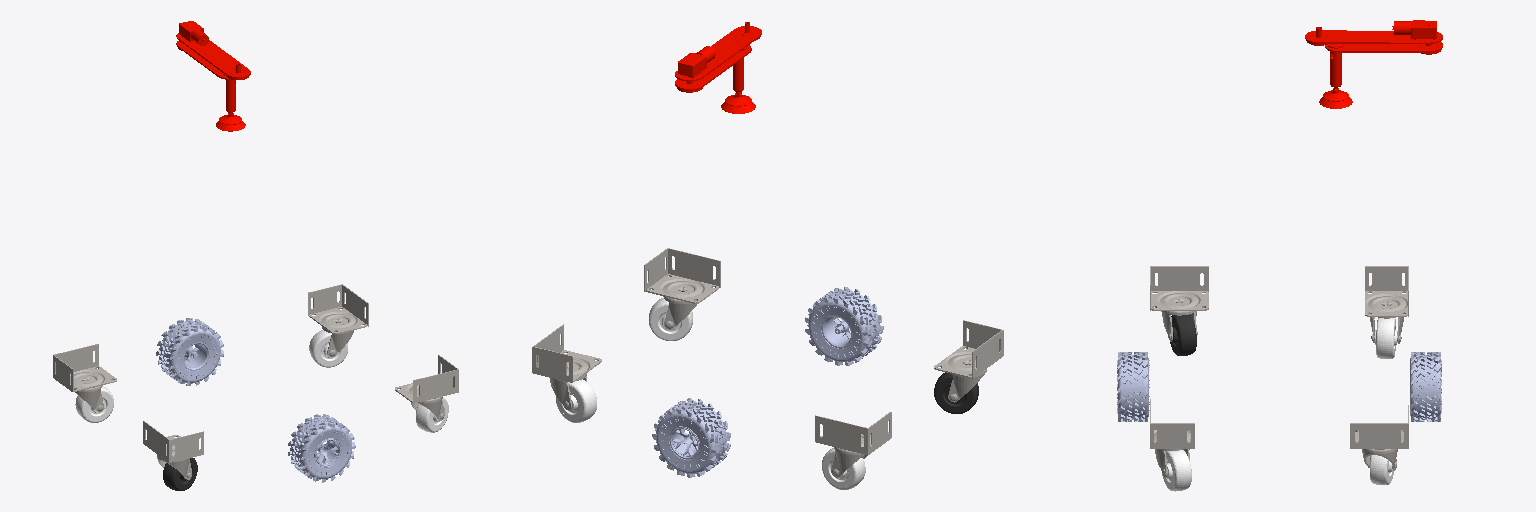
The robot description file, URDF, robot "Assem1":
<?xml version="1.0" encoding="utf-8"?>
<!-- This URDF was automatically created by SolidWorks to URDF Exporter! Originally created by Stephen Brawner (brawner@gmail.com) 
     Commit Version: 1.6.0-4-g7f85cfe  Build Version: 1.6.7995.38578
     For more information, please see http://wiki.ros.org/sw_urdf_exporter -->
<robot
  name="Assem1">
  <link
    name="base_link">
    <inertial>
      <origin
        xyz="-0.00155506458890642 -0.0167350728595071 0.196068139571374"
        rpy="0 0 0" />
      <mass
        value="36.7025357857225" />
      <inertia
        ixx="1.19283308759496"
        ixy="-3.51896300637401E-06"
        ixz="1.99354682337673E-07"
        iyy="1.33312260434488"
        iyz="0.00419911892440131"
        izz="1.35147505804967" />
    </inertial>
    <visual>
      <origin
        xyz="0 0 0"
        rpy="0 0 0" />
      <geometry>
        <mesh
          filename="package://assem1_test/meshes/base_link.STL" />
      </geometry>
      <material
        name="">
        <color
          rgba="0.776470588235294 0.756862745098039 0.737254901960784 1" />
      </material>
    </visual>
    <collision>
      <origin
        xyz="0 0 0"
        rpy="0 0 0" />
      <geometry>
        <mesh
          filename="package://assem1_test/meshes/base_link.STL" />
      </geometry>
    </collision>
  </link>
  <link
    name="Left_wheel">
    <inertial>
      <origin
        xyz="-3.06256353610479E-09 -1.20896110900048E-08 0.00479339715197669"
        rpy="0 0 0" />
      <mass
        value="0.0922917375027572" />
      <inertia
        ixx="0.000141545400704209"
        ixy="-2.06461032840064E-11"
        ixz="-1.02248643807838E-11"
        iyy="0.000141544096645698"
        iyz="-2.6977277401381E-11"
        izz="0.0002252540982412" />
    </inertial>
    <visual>
      <origin
        xyz="0 0 0"
        rpy="0 0 0" />
      <geometry>
        <mesh
          filename="package://assem1_test/meshes/Left_wheel.STL" />
      </geometry>
      <material
        name="">
        <color
          rgba="0.792156862745098 0.819607843137255 0.933333333333333 1" />
      </material>
    </visual>
    <collision>
      <origin
        xyz="0 0 0"
        rpy="0 0 0" />
      <geometry>
        <mesh
          filename="package://assem1_test/meshes/Left_wheel.STL" />
      </geometry>
    </collision>
  </link>
  <joint
    name="leftwheel"
    type="continuous">
    <origin
      xyz="0 0.25498 -0.188"
      rpy="-1.5708 0 0" />
    <parent
      link="base_link" />
    <child
      link="Left_wheel" />
    <axis
      xyz="0 0 1" />
  </joint>
  <link
    name="Right_wheel">
    <inertial>
      <origin
        xyz="3.06143022044125E-09 -1.20857057694934E-08 -0.00479339714908333"
        rpy="0 0 0" />
      <mass
        value="0.0922917374397851" />
      <inertia
        ixx="0.000141545400710461"
        ixy="2.06410667434802E-11"
        ixz="-1.02121235750665E-11"
        iyy="0.000141544096649246"
        iyz="2.69726379704069E-11"
        izz="0.000225254098228782" />
    </inertial>
    <visual>
      <origin
        xyz="0 0 0"
        rpy="0 0 0" />
      <geometry>
        <mesh
          filename="package://assem1_test/meshes/Right_wheel.STL" />
      </geometry>
      <material
        name="">
        <color
          rgba="0.792156862745098 0.819607843137255 0.933333333333333 1" />
      </material>
    </visual>
    <collision>
      <origin
        xyz="0 0 0"
        rpy="0 0 0" />
      <geometry>
        <mesh
          filename="package://assem1_test/meshes/Right_wheel.STL" />
      </geometry>
    </collision>
  </link>
  <joint
    name="rightwreel"
    type="continuous">
    <origin
      xyz="0 -0.25502 -0.188"
      rpy="-1.5708 0 0" />
    <parent
      link="base_link" />
    <child
      link="Right_wheel" />
    <axis
      xyz="0 0 -1" />
  </joint>
  <link
    name="Caster_1">
    <inertial>
      <origin
        xyz="-0.035275891589382 0.00580828165625702 -0.00311975409525078"
        rpy="0 0 0" />
      <mass
        value="0.585808382602343" />
      <inertia
        ixx="0.000551623388855379"
        ixy="1.88511707291591E-05"
        ixz="-5.60975500731634E-05"
        iyy="0.000382179453675265"
        iyz="-3.78791423823395E-05"
        izz="0.00068252815443526" />
    </inertial>
    <visual>
      <origin
        xyz="0 0 0"
        rpy="0 0 0" />
      <geometry>
        <mesh
          filename="package://assem1_test/meshes/Caster_1.STL" />
      </geometry>
      <material
        name="">
        <color
          rgba="0.776470588235294 0.756862745098039 0.737254901960784 1" />
      </material>
    </visual>
    <collision>
      <origin
        xyz="0 0 0"
        rpy="0 0 0" />
      <geometry>
        <mesh
          filename="package://assem1_test/meshes/Caster_1.STL" />
      </geometry>
    </collision>
  </link>
  <joint
    name="caster1"
    type="continuous">
    <origin
      xyz="0.29031 0.17759 -0.15623"
      rpy="0 0 0" />
    <parent
      link="base_link" />
    <child
      link="Caster_1" />
    <axis
      xyz="0 0 -1" />
  </joint>
  <link
    name="Empty_Link">
    <inertial>
      <origin
        xyz="-2.3489592937409E-08 -4.51467752071721E-11 -9.72476782434839E-08"
        rpy="0 0 0" />
      <mass
        value="1.06721078657091" />
      <inertia
        ixx="0.000476140505873741"
        ixy="6.20443463971414E-19"
        ixz="6.48044087020466E-05"
        iyy="0.000460480636810305"
        iyz="2.50836569154054E-18"
        izz="0.000728657297177633" />
    </inertial>
    <visual>
      <origin
        xyz="0 0 0"
        rpy="0 0 0" />
      <geometry>
        <mesh
          filename="package://assem1_test/meshes/Empty_Link.STL" />
      </geometry>
      <material
        name="">
        <color
          rgba="1 1 1 1" />
      </material>
    </visual>
    <collision>
      <origin
        xyz="0 0 0"
        rpy="0 0 0" />
      <geometry>
        <mesh
          filename="package://assem1_test/meshes/Empty_Link.STL" />
      </geometry>
    </collision>
  </link>
  <joint
    name="weelcaster1"
    type="continuous">
    <origin
      xyz="-0.01926 0.0047517 -0.055512"
      rpy="-1.5708 0 0" />
    <parent
      link="Caster_1" />
    <child
      link="Empty_Link" />
    <axis
      xyz="0.23502 0 0.97199" />
  </joint>
  <link
    name="Caster_2">
    <inertial>
      <origin
        xyz="-0.00319501952400647 0.00490162667456961 -0.0030358083689912"
        rpy="0 0 0" />
      <mass
        value="0.568674136706872" />
      <inertia
        ixx="0.000422933243894265"
        ixy="-3.18669815606215E-05"
        ixz="5.59173802613492E-05"
        iyy="0.000509353159552698"
        iyz="-4.28638185435833E-05"
        izz="0.000681363739268127" />
    </inertial>
    <visual>
      <origin
        xyz="0 0 0"
        rpy="0 0 0" />
      <geometry>
        <mesh
          filename="package://assem1_test/meshes/Caster_2.STL" />
      </geometry>
      <material
        name="">
        <color
          rgba="0.776470588235294 0.756862745098039 0.737254901960784 1" />
      </material>
    </visual>
    <collision>
      <origin
        xyz="0 0 0"
        rpy="0 0 0" />
      <geometry>
        <mesh
          filename="package://assem1_test/meshes/Caster_2.STL" />
      </geometry>
    </collision>
  </link>
  <joint
    name="caster2"
    type="continuous">
    <origin
      xyz="-0.27761 0.19029 -0.15623"
      rpy="0 0 0" />
    <parent
      link="base_link" />
    <child
      link="Caster_2" />
    <axis
      xyz="0 0 -1" />
  </joint>
  <link
    name="Empty_Link2">
    <inertial>
      <origin
        xyz="6.6066980775048E-09 -6.24954532568722E-11 9.97406108815824E-08"
        rpy="0 0 0" />
      <mass
        value="1.06721078657091" />
      <inertia
        ixx="0.000461722824688413"
        ixy="1.6641436865393E-19"
        ixz="1.8735935138088E-05"
        iyy="0.000460480636810305"
        iyz="2.93795194145687E-18"
        izz="0.00074307497836296" />
    </inertial>
    <visual>
      <origin
        xyz="0 0 0"
        rpy="0 0 0" />
      <geometry>
        <mesh
          filename="package://assem1_test/meshes/Empty_Link2.STL" />
      </geometry>
      <material
        name="">
        <color
          rgba="1 1 1 1" />
      </material>
    </visual>
    <collision>
      <origin
        xyz="0 0 0"
        rpy="0 0 0" />
      <geometry>
        <mesh
          filename="package://assem1_test/meshes/Empty_Link2.STL" />
      </geometry>
    </collision>
  </link>
  <joint
    name="casterwheel2"
    type="continuous">
    <origin
      xyz="0.019788 -0.001407 -0.055512"
      rpy="-1.5708 0 0" />
    <parent
      link="Caster_2" />
    <child
      link="Empty_Link2" />
    <axis
      xyz="-0.066155 0 -0.99781" />
  </joint>
  <link
    name="Caster_3">
    <inertial>
      <origin
        xyz="-0.00343457279816928 -0.00425088510972743 -0.00303479975691134"
        rpy="0 0 0" />
      <mass
        value="0.568664498255161" />
      <inertia
        ixx="0.000549067886838521"
        ixy="4.18316193484824E-05"
        ixz="5.58015039159187E-05"
        iyy="0.000383064954110297"
        iyz="4.57861181051339E-05"
        izz="0.000681332583879271" />
    </inertial>
    <visual>
      <origin
        xyz="0 0 0"
        rpy="0 0 0" />
      <geometry>
        <mesh
          filename="package://assem1_test/meshes/Caster_3.STL" />
      </geometry>
      <material
        name="">
        <color
          rgba="0.776470588235294 0.756862745098039 0.737254901960784 1" />
      </material>
    </visual>
    <collision>
      <origin
        xyz="0 0 0"
        rpy="0 0 0" />
      <geometry>
        <mesh
          filename="package://assem1_test/meshes/Caster_3.STL" />
      </geometry>
    </collision>
  </link>
  <joint
    name="caster3"
    type="continuous">
    <origin
      xyz="-0.29031 -0.17764 -0.15623"
      rpy="0 0 0" />
    <parent
      link="base_link" />
    <child
      link="Caster_3" />
    <axis
      xyz="0 0 -1" />
  </joint>
  <link
    name="Empty_Link3">
    <inertial>
      <origin
        xyz="-3.06898400026512E-08 1.00507380196291E-11 9.51734757115297E-08"
        rpy="0 0 0" />
      <mass
        value="1.0672107865709" />
      <inertia
        ixx="0.000487196059114887"
        ixy="-9.72601687017595E-19"
        ixz="-8.28800275114445E-05"
        iyy="0.000460480636810305"
        iyz="2.99577040698735E-18"
        izz="0.000717601743936485" />
    </inertial>
    <visual>
      <origin
        xyz="0 0 0"
        rpy="0 0 0" />
      <geometry>
        <mesh
          filename="package://assem1_test/meshes/Empty_Link3.STL" />
      </geometry>
      <material
        name="">
        <color
          rgba="0.250980392156863 0.250980392156863 0.250980392156863 1" />
      </material>
    </visual>
    <collision>
      <origin
        xyz="0 0 0"
        rpy="0 0 0" />
      <geometry>
        <mesh
          filename="package://assem1_test/meshes/Empty_Link3.STL" />
      </geometry>
    </collision>
  </link>
  <joint
    name="casterwheel3"
    type="continuous">
    <origin
      xyz="0.01891 0.0059957 -0.055512"
      rpy="-1.5708 0 0" />
    <parent
      link="Caster_3" />
    <child
      link="Empty_Link3" />
    <axis
      xyz="0.30679 0 -0.95178" />
  </joint>
  <link
    name="Caster_4">
    <inertial>
      <origin
        xyz="-0.0120122727642447 -0.0524769152873983 -0.0119838106843425"
        rpy="0 0 0" />
      <mass
        value="0.568664179194258" />
      <inertia
        ixx="0.000416216576417651"
        ixy="2.7891138356659E-05"
        ixz="-1.29396663120577E-05"
        iyy="0.000681332605352682"
        iyz="-4.76612202956274E-05"
        izz="0.000515916252248981" />
    </inertial>
    <visual>
      <origin
        xyz="0 0 0"
        rpy="0 0 0" />
      <geometry>
        <mesh
          filename="package://assem1_test/meshes/Caster_4.STL" />
      </geometry>
      <material
        name="">
        <color
          rgba="0.776470588235294 0.756862745098039 0.737254901960784 1" />
      </material>
    </visual>
    <collision>
      <origin
        xyz="0 0 0"
        rpy="0 0 0" />
      <geometry>
        <mesh
          filename="package://assem1_test/meshes/Caster_4.STL" />
      </geometry>
    </collision>
  </link>
  <joint
    name="caster4"
    type="continuous">
    <origin
      xyz="0.29588 -0.18261 -0.21174"
      rpy="-1.5708 0 0" />
    <parent
      link="base_link" />
    <child
      link="Caster_4" />
    <axis
      xyz="0 1 0" />
  </joint>
  <link
    name="Empty_Link4">
    <inertial>
      <origin
        xyz="-3.81156268769445E-08 -1.1498906271612E-09 9.2705818466321E-08"
        rpy="0 0 0" />
      <mass
        value="1.06721078657091" />
      <inertia
        ixx="0.000504549784122729"
        ixy="-1.42465177926377E-18"
        ixz="-0.000102792723883003"
        iyy="0.000460480636810305"
        iyz="3.18438960836454E-18"
        izz="0.000700248018928644" />
    </inertial>
    <visual>
      <origin
        xyz="0 0 0"
        rpy="0 0 0" />
      <geometry>
        <mesh
          filename="package://assem1_test/meshes/Empty_Link4.STL" />
      </geometry>
      <material
        name="">
        <color
          rgba="1 1 1 1" />
      </material>
    </visual>
    <collision>
      <origin
        xyz="0 0 0"
        rpy="0 0 0" />
      <geometry>
        <mesh
          filename="package://assem1_test/meshes/Empty_Link4.STL" />
      </geometry>
    </collision>
  </link>
  <joint
    name="casterwheel44"
    type="continuous">
    <origin
      xyz="0 0 0"
      rpy="0 0 0" />
    <parent
      link="Caster_4" />
    <child
      link="Empty_Link4" />
    <axis
      xyz="0.39403 0 -0.9191" />
  </joint>
  <link
    name="Armlink1">
    <inertial>
      <origin
        xyz="0.0003200901517868 0.10625947606417 0.00859769829677659"
        rpy="0 0 0" />
      <mass
        value="0.332522666985014" />
      <inertia
        ixx="0.00125293093936372"
        ixy="-4.70356148528572E-06"
        ixz="3.39571390138256E-10"
        iyy="6.28321938668438E-05"
        iyz="7.22390011604219E-08"
        izz="0.00131069685758587" />
    </inertial>
    <visual>
      <origin
        xyz="0 0 0"
        rpy="0 0 0" />
      <geometry>
        <mesh
          filename="package://assem1_test/meshes/Armlink1.STL" />
      </geometry>
      <material
        name="">
        <color
          rgba="0.988235294117647 0.0823529411764706 0 1" />
      </material>
    </visual>
    <collision>
      <origin
        xyz="0 0 0"
        rpy="0 0 0" />
      <geometry>
        <mesh
          filename="package://assem1_test/meshes/Armlink1.STL" />
      </geometry>
    </collision>
  </link>
  <joint
    name="armlinl1"
    type="revolute">
    <origin
      xyz="0 0.069976 0.4897"
      rpy="0 0 0" />
    <parent
      link="base_link" />
    <child
      link="Armlink1" />
    <axis
      xyz="0 0 1" />
    <limit lower="-3.14" upper="3.14" effort="10" velocity="1.0" />
  </joint>
  <link
    name="armlink2">
    <inertial>
      <origin
        xyz="-0.000378523464681146 -0.0941307105712545 -0.00947503989193477"
        rpy="0 0 0" />
      <mass
        value="0.300704203880306" />
      <inertia
        ixx="0.000749795032834774"
        ixy="-2.68858863020437E-06"
        ixz="3.21601810886238E-08"
        iyy="7.27567345311832E-05"
        iyz="-4.00235469561631E-08"
        izz="0.000789914137832894" />
    </inertial>
    <visual>
      <origin
        xyz="0 0 0"
        rpy="0 0 0" />
      <geometry>
        <mesh
          filename="package://assem1_test/meshes/armlink2.STL" />
      </geometry>
      <material
        name="">
        <color
          rgba="0.988235294117647 0.0823529411764706 0 1" />
      </material>
    </visual>
    <collision>
      <origin
        xyz="0 0 0"
        rpy="0 0 0" />
      <geometry>
        <mesh
          filename="package://assem1_test/meshes/armlink2.STL" />
      </geometry>
    </collision>
  </link>
  <joint
    name="armlinl2"
    type="revolute">
    <origin
      xyz="0.00077145 0.26497 0.4729"
      rpy="0 0 0" />
    <parent
      link="base_link" />
    <child
      link="armlink2" />
    <axis
      xyz="0 0 1" />
    <limit lower="-3.14" upper="3.14" effort="10" velocity="1.0" />
  </joint>
</robot>

--- Render facts (derived) ---
3 views of the same robot in one strip: view 1: azimuth 30°, elevation 25°; view 2: azimuth 150°, elevation 25°; view 3: azimuth 270°, elevation 25° (orthographic).
Robot: Assem1 — 13 links, 12 joints (2 revolute, 10 continuous); root link base_link; default pose: all joints at 0.
Visible links, largest first — view 1: Left_wheel, Right_wheel, Caster_1, Caster_2, Caster_4, Caster_3, Armlink1, armlink2, Empty_Link, Empty_Link2, Empty_Link3, Empty_Link4; view 2: Left_wheel, Right_wheel, Caster_4, Caster_3, Caster_2, Caster_1, Armlink1, armlink2, Empty_Link, Empty_Link4, Empty_Link3, Empty_Link2; view 3: Caster_3, Caster_2, Armlink1, Right_wheel, Left_wheel, armlink2, Caster_1, Caster_4, Empty_Link4, Empty_Link3, Empty_Link2, Empty_Link.
Boxes of the visible links, x1,y1,x2,y2 form: Left_wheel: (156, 318, 223, 385); Right_wheel: (288, 414, 355, 482); Caster_1: (82, 284, 368, 380); Caster_2: (53, 344, 116, 412); Caster_4: (395, 355, 458, 420); Caster_3: (143, 421, 203, 479); Armlink1: (176, 21, 250, 79); armlink2: (176, 41, 245, 131); Empty_Link: (309, 330, 347, 367); Empty_Link2: (75, 386, 113, 422); Empty_Link3: (163, 458, 197, 490); Empty_Link4: (416, 397, 448, 432); Left_wheel: (652, 398, 730, 477); Right_wheel: (805, 287, 883, 365); Caster_4: (644, 248, 720, 329); Caster_3: (934, 320, 1003, 402); Caster_2: (815, 412, 891, 477); Caster_1: (532, 324, 601, 409); Armlink1: (675, 22, 761, 81); armlink2: (675, 45, 755, 113); Empty_Link: (556, 379, 596, 422); Empty_Link4: (649, 298, 692, 340); Empty_Link3: (934, 372, 978, 413); Empty_Link2: (822, 448, 865, 489); Caster_3: (1150, 266, 1208, 341); Caster_2: (1365, 266, 1408, 343); Armlink1: (1305, 20, 1442, 45); Right_wheel: (1117, 352, 1149, 421); Left_wheel: (1410, 352, 1441, 421); armlink2: (1319, 42, 1442, 108); Caster_1: (1350, 302, 1408, 470); Caster_4: (1150, 399, 1194, 476); Empty_Link4: (1161, 450, 1191, 491); Empty_Link3: (1170, 314, 1196, 355); Empty_Link2: (1375, 318, 1397, 358); Empty_Link: (1370, 455, 1393, 484).
Bounding box of the posed robot: 0.6643 × 0.578 × 0.7756 m (x, y, z).
Meshes: 13 distinct files referenced, 12 mesh visuals loaded (12 binary STL); not drawn: 1 (reference not matched to a file when rendering).
